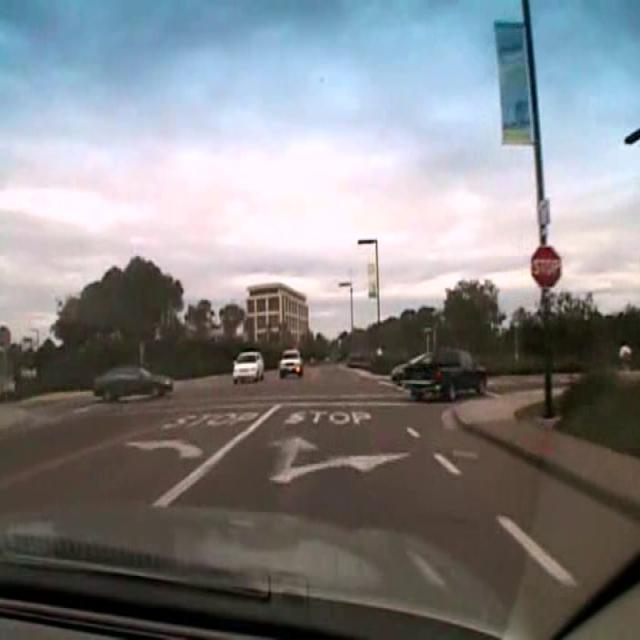stop: (530, 246, 562, 290)
